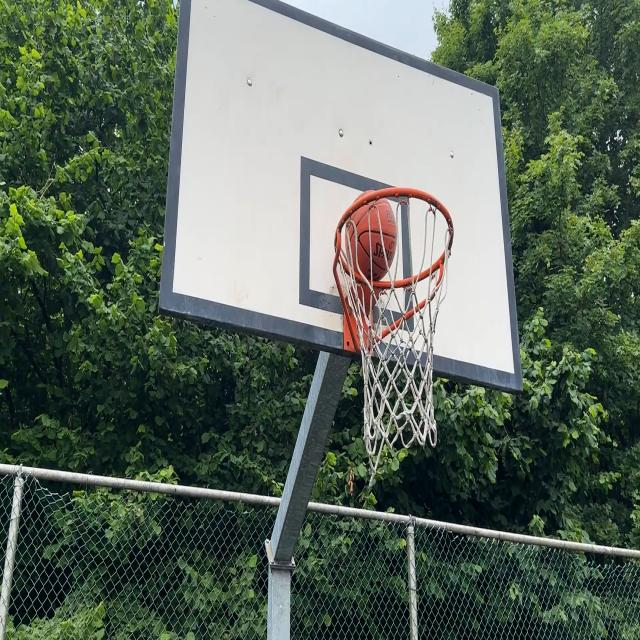rebound_hit: (344, 191, 395, 285)
